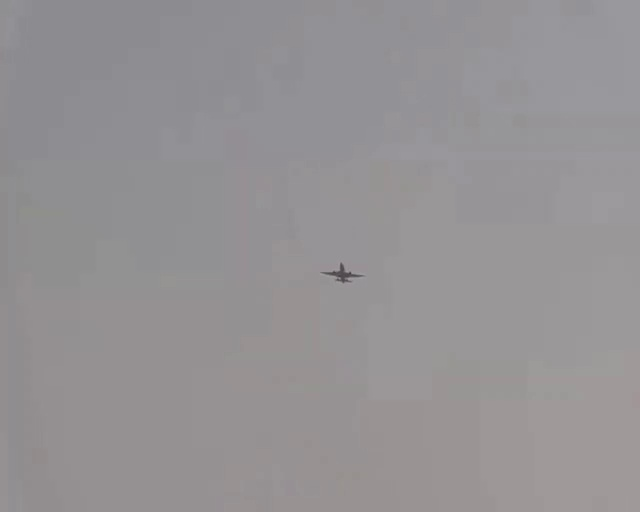AIRPLANE: (320, 261, 365, 283)
